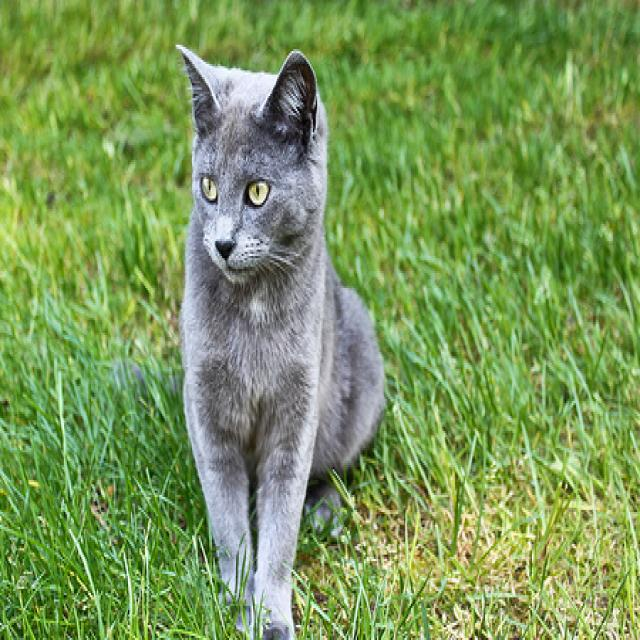Russian Blue: (173, 34, 387, 640)
